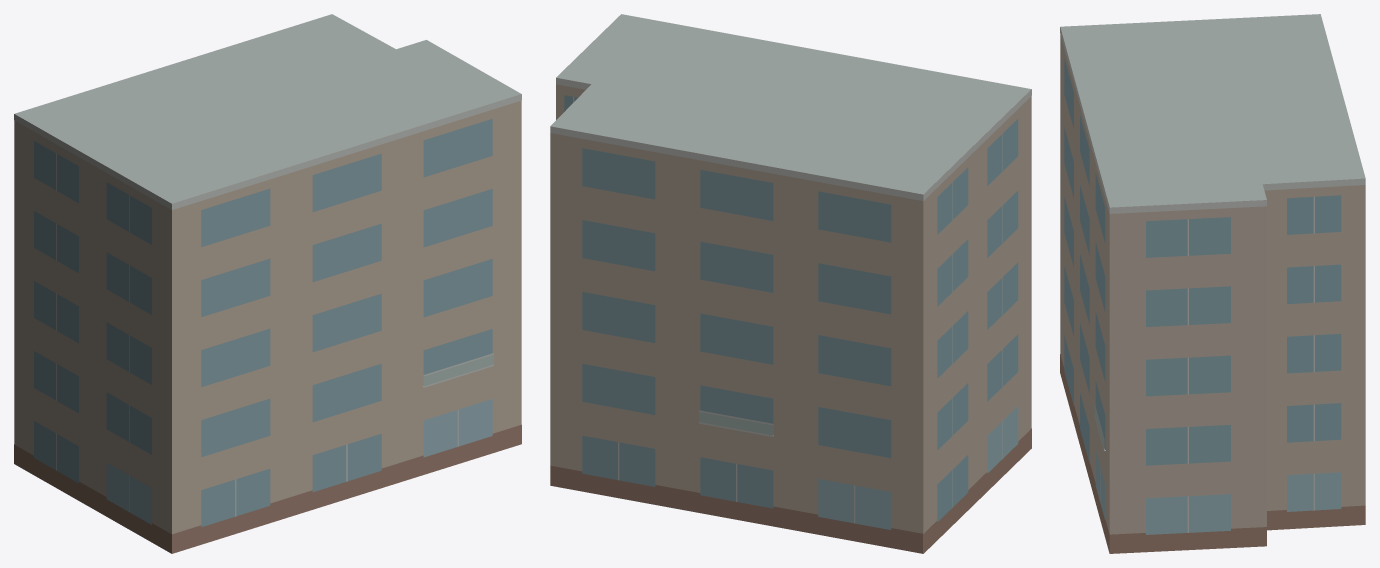
The model's file is survey-upis-32655681.glb.
3 views of the same model, side by side, from view 1: azimuth 30°, elevation 25°; view 2: azimuth 150°, elevation 25°; view 3: azimuth 270°, elevation 25° (orthographic). The views are drawn at different scales.
Parts seen in each view (by area): view 1: survey-upis-32655681.tmp; view 2: survey-upis-32655681.tmp; view 3: survey-upis-32655681.tmp.
Boxes of the visible parts, bbox=[...] form: survey-upis-32655681.tmp: bbox=[14, 14, 521, 553]; survey-upis-32655681.tmp: bbox=[550, 14, 1031, 553]; survey-upis-32655681.tmp: bbox=[1060, 14, 1365, 553].
Size of the model in its own units: 15.98 by 13.32 by 10.66.
